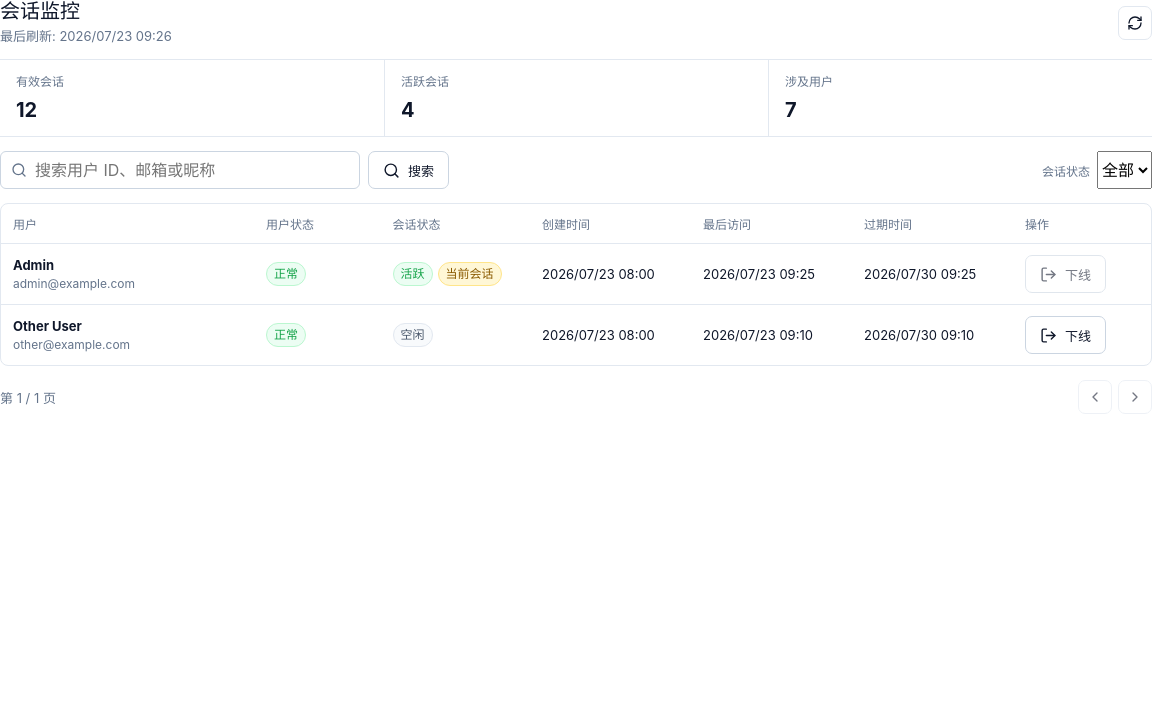
Test case: SessionMonitoringPage › opens confirmation then revokes another session and refreshes the page
The image size is (1152, 720).
Click the button with aria-label "下线 Other User 的会话": click(1066, 335) [1025,316,1106,354]
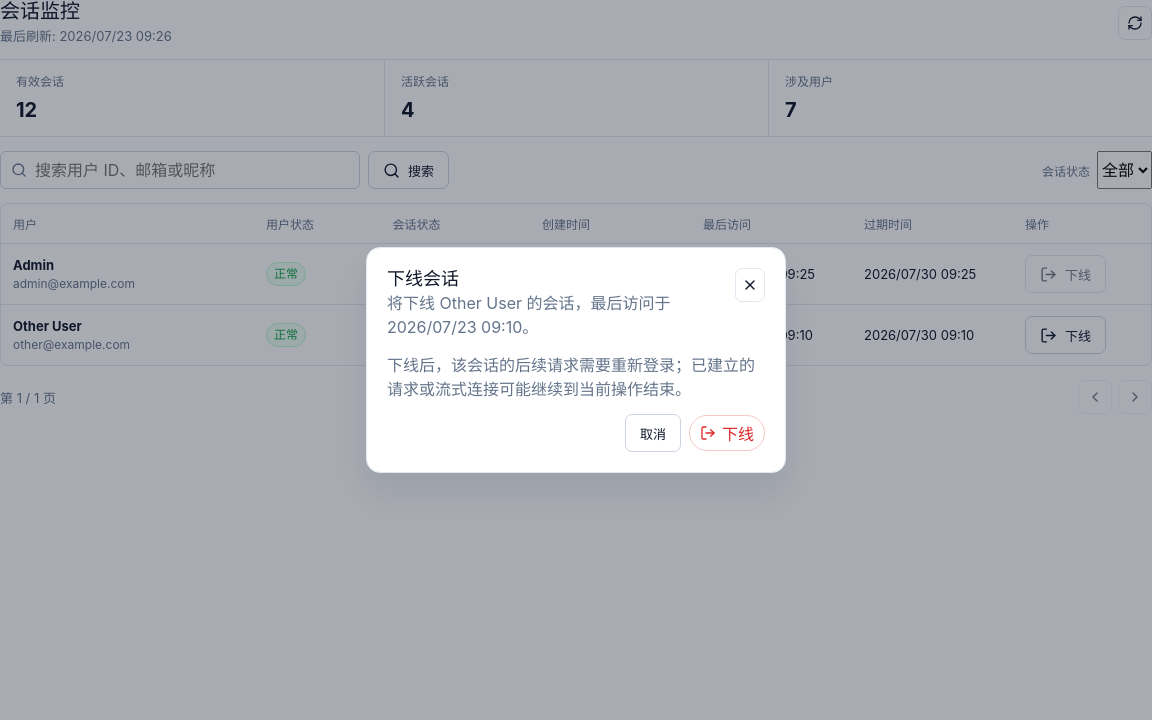
Expected: the dialog shows "已建立的请求或流式连接可能继续到当前操作结束", [387,355,755,399]
Click the button "下线": click(727, 433) [689,415,765,451]
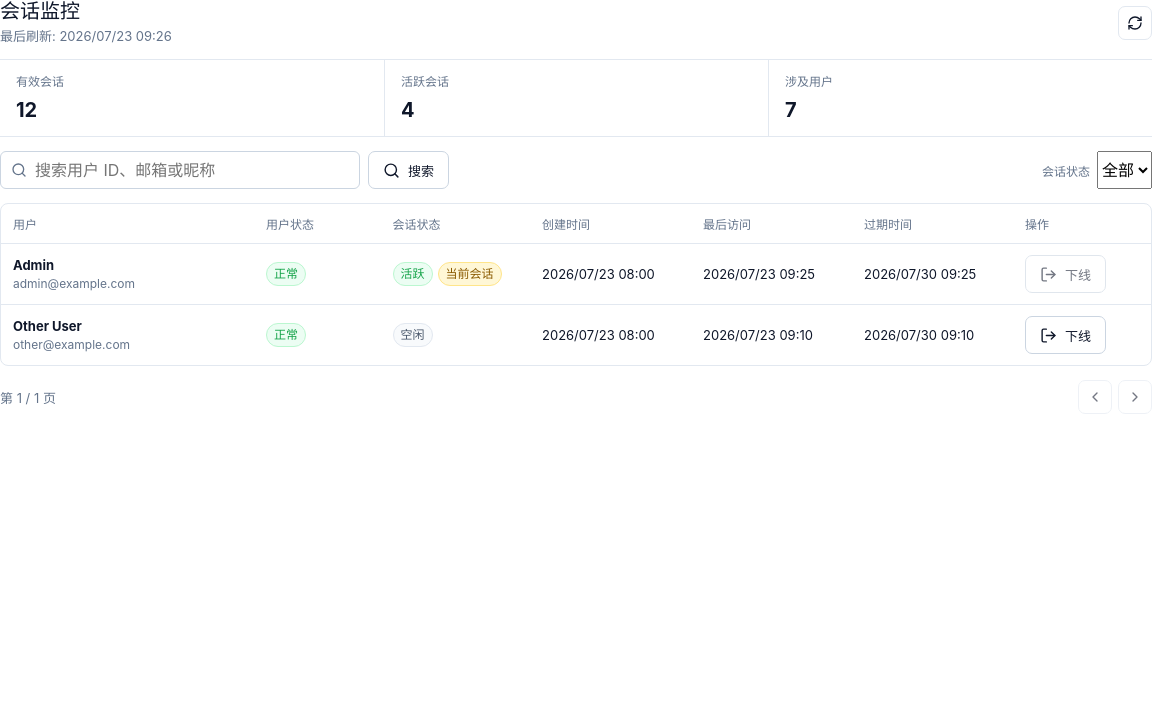
Expected: the dialog is gone
